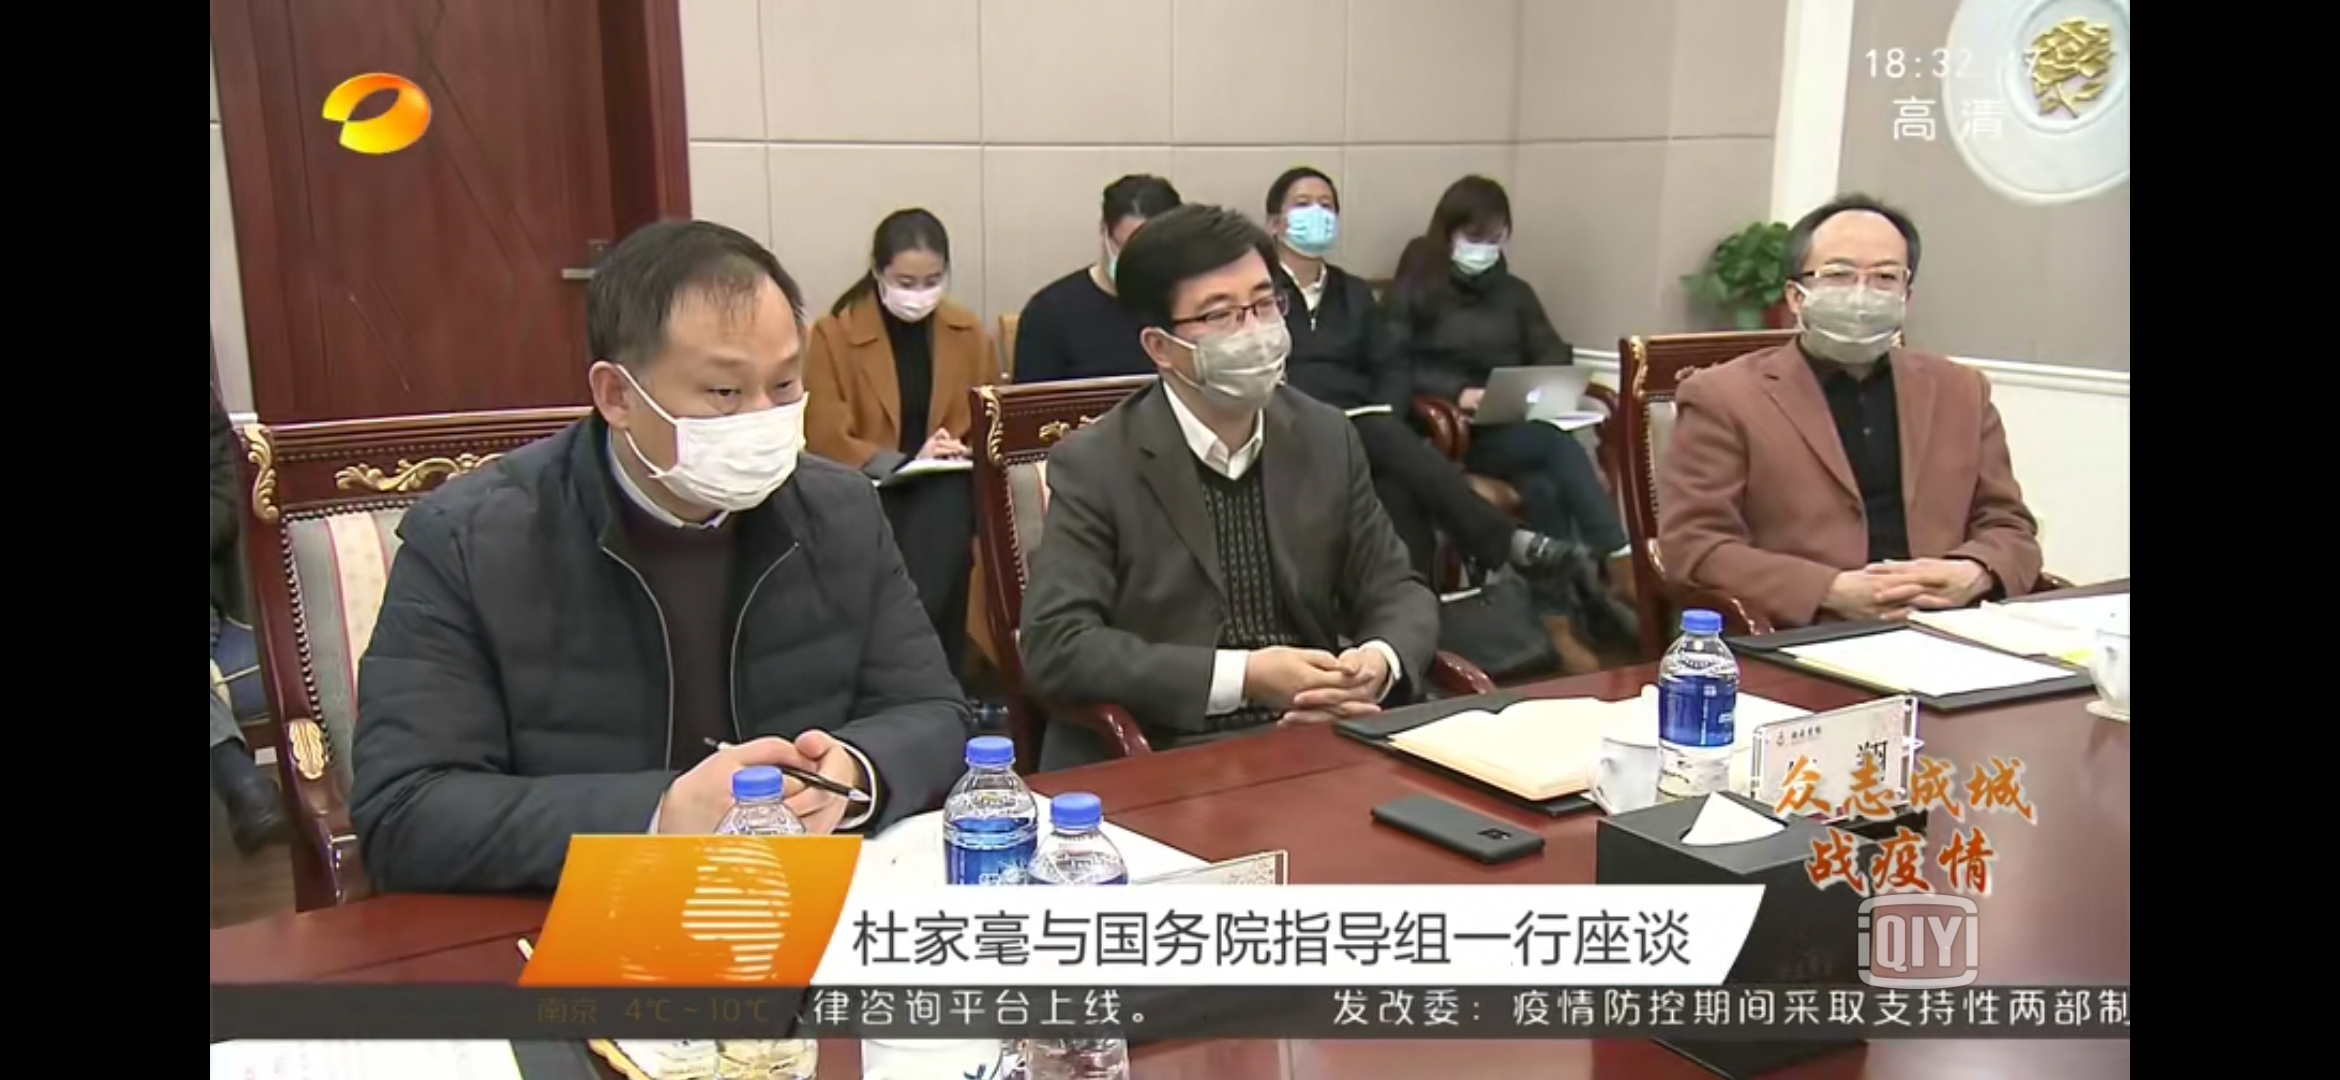correctlyWear: (585, 324, 809, 528), (1142, 277, 1298, 413), (1786, 248, 1913, 374), (1268, 186, 1342, 264), (870, 254, 948, 324), (1448, 219, 1510, 283), (1101, 201, 1136, 280)
